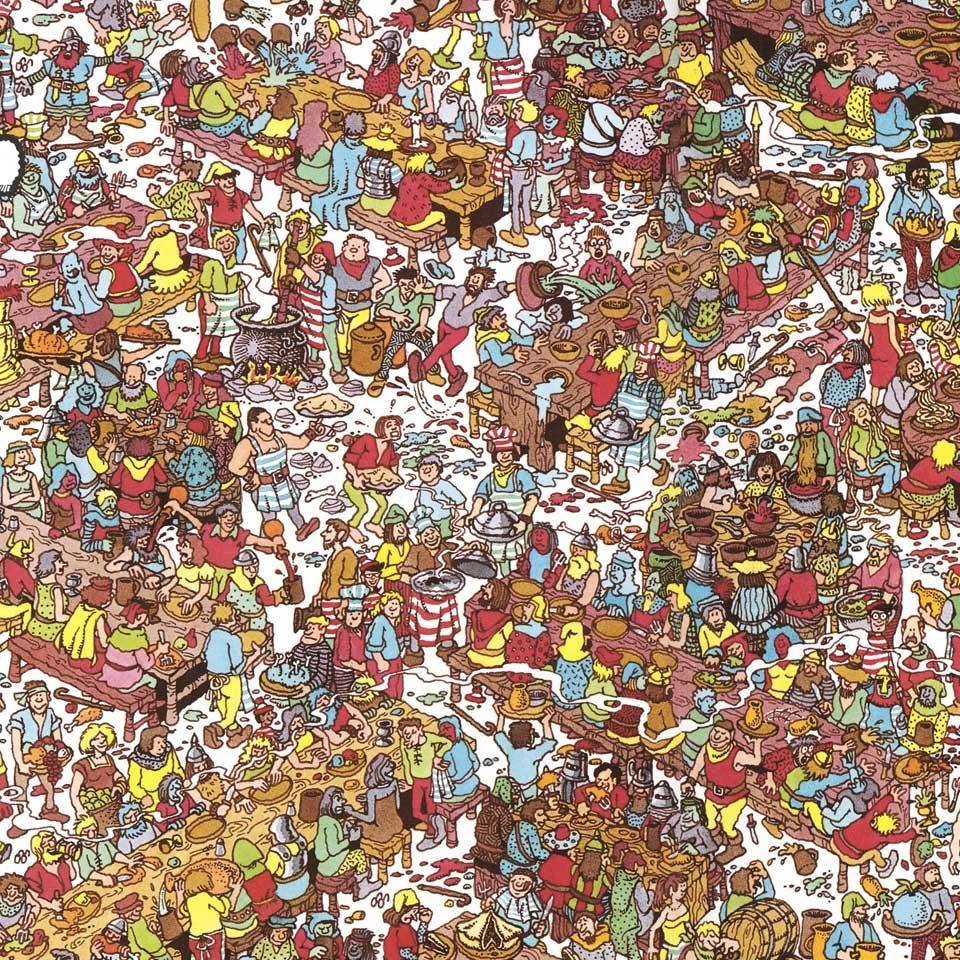waldo: (859, 594, 895, 672)
